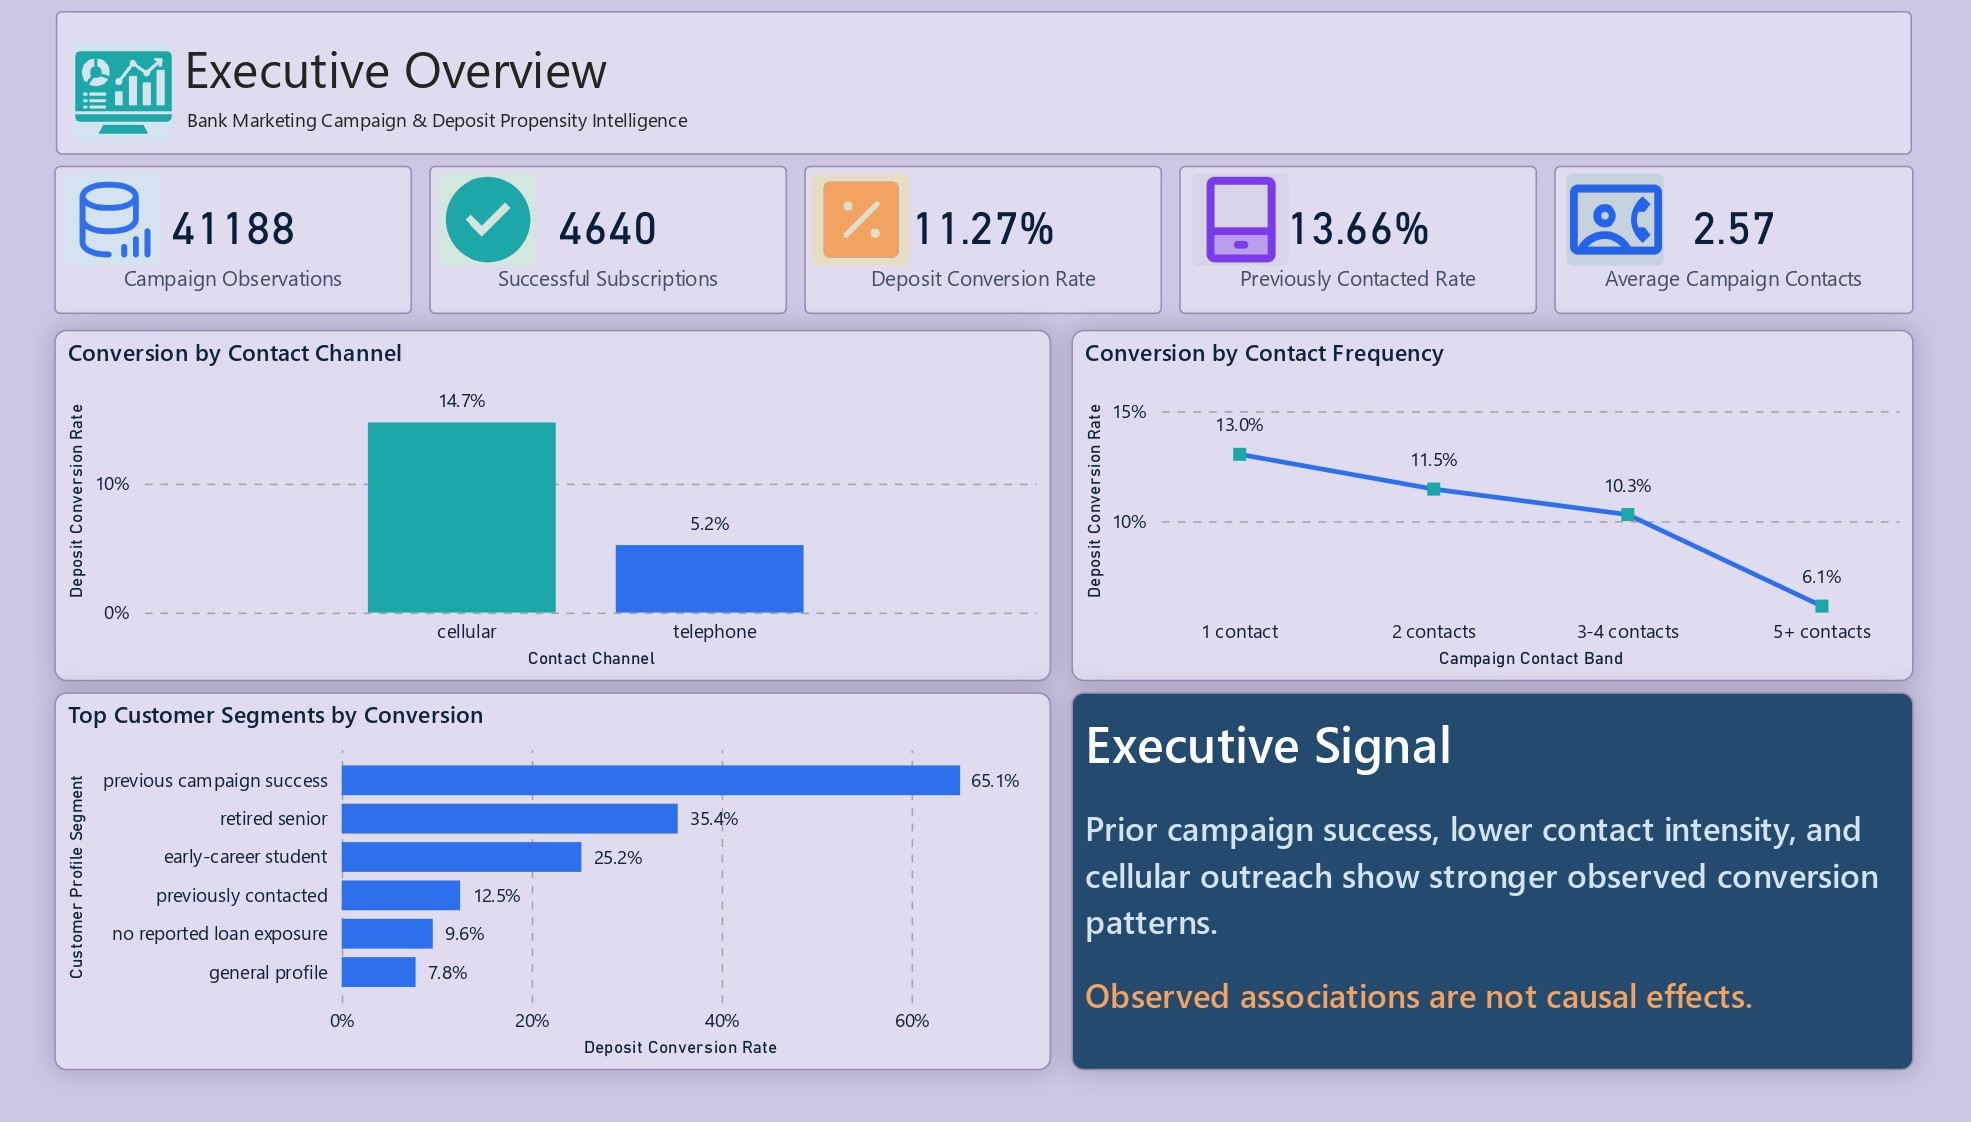

This screenshot's page, from the dashboard's own definition file:
{"tool":"powerbi","page":{"name":"Executive Overview","canvas":[1280,720],"ordinal":0},"visuals":[{"type":"shape","box":[45,8.3,1188.3,91.7],"z":0},{"type":"card","fields":{"Values":["_Measures.Campaign Observations"]},"box":[44.3,106.7,228.6,95.7],"z":1000},{"type":"card","fields":{"Values":["_Measures.Successful Subscriptions"]},"box":[284.3,106.7,228.6,95.7],"z":2000},{"type":"card","fields":{"Values":["_Measures.Deposit Conversion Rate"]},"box":[524.3,106.7,228.6,95.7],"z":3000},{"type":"card","fields":{"Values":["_Measures.Previously Contacted Rate"]},"box":[764.3,106.7,228.6,95.7],"z":4000},{"type":"card","fields":{"Values":["_Measures.Average Campaign Contacts"]},"box":[1004.3,106.7,230,95.7],"z":5000},{"type":"clusteredColumnChart","title":"Conversion by Contact Channel","fields":{"Category":["dim_contact.contact_channel"],"Y":["_Measures.Deposit Conversion Rate"]},"box":[44.4,212.5,637.5,225],"z":6000},{"type":"clusteredBarChart","title":"Top Customer Segments by Conversion","fields":{"Category":["fact_campaign_contact.customer_profile_segment"],"Y":["_Measures.Deposit Conversion Rate"]},"box":[44.3,443.9,637.8,242.2],"z":7000},{"type":"lineChart","title":"Conversion by Contact Frequency","fields":{"Category":["dim_contact.campaign_contact_band"],"Y":["_Measures.Deposit Conversion Rate"]},"box":[695.2,212.5,539.2,225],"z":8000},{"type":"textbox","box":[695.4,444.3,539,242],"z":9000},{"type":"textbox","box":[122,15.9,350,55],"z":10000},{"type":"textbox","box":[124.4,63.1,350,30.8],"z":11000},{"type":"image","box":[56.2,27.7,63.8,63.8],"z":12000},{"type":"image","box":[50.4,111.7,61.4,58.9],"z":13000},{"type":"image","box":[290,111.7,62.1,58.9],"z":14000},{"type":"image","box":[529.3,111.7,61.8,58.9],"z":15000},{"type":"image","box":[772.4,112,61.8,58.8],"z":16000},{"type":"image","box":[1012.4,112,61.8,58.8],"z":17000}]}

Visuals, with their boxes in screenshot pixels (x1, y1, x2, y2), scaled from the page's 1280x720 canvas onto the 1971x1122 screenshot:
shape: x1=69 y1=13 x2=1899 y2=156
card - _Measures.Campaign Observations: x1=68 y1=166 x2=420 y2=315
card - _Measures.Successful Subscriptions: x1=438 y1=166 x2=790 y2=315
card - _Measures.Deposit Conversion Rate: x1=807 y1=166 x2=1159 y2=315
card - _Measures.Previously Contacted Rate: x1=1177 y1=166 x2=1529 y2=315
card - _Measures.Average Campaign Contacts: x1=1546 y1=166 x2=1901 y2=315
"Conversion by Contact Channel" clusteredColumnChart: x1=68 y1=331 x2=1050 y2=682
"Top Customer Segments by Conversion" clusteredBarChart: x1=68 y1=692 x2=1050 y2=1069
"Conversion by Contact Frequency" lineChart: x1=1070 y1=331 x2=1901 y2=682
textbox: x1=1071 y1=692 x2=1901 y2=1069
textbox: x1=188 y1=25 x2=727 y2=110
textbox: x1=192 y1=98 x2=731 y2=146
image: x1=87 y1=43 x2=185 y2=143
image: x1=78 y1=174 x2=172 y2=266
image: x1=447 y1=174 x2=542 y2=266
image: x1=815 y1=174 x2=910 y2=266
image: x1=1189 y1=175 x2=1285 y2=266
image: x1=1559 y1=175 x2=1654 y2=266
